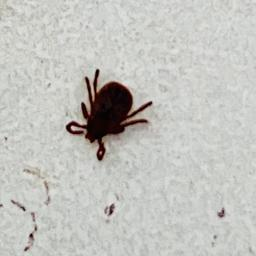Rhipicephalus sanguineus: (63, 68, 153, 162)
